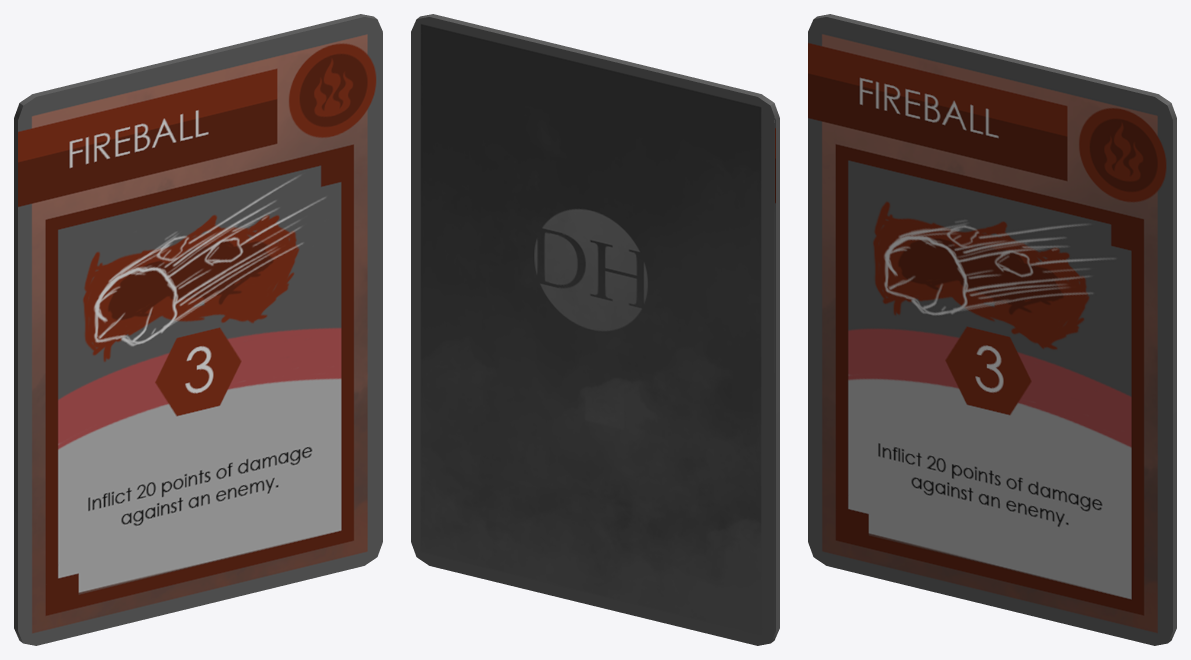
File: Card_Model.fbx
3 renders of one model, left to right at view 1: azimuth 30°, elevation 25°; view 2: azimuth 150°, elevation 25°; view 3: azimuth 330°, elevation 25°, orthographic.
Visible parts, largest first — view 1: pCube17; view 2: pCube17; view 3: pCube17.
Part boxes in pixels (bbox=[...]): pCube17: bbox=[14, 14, 382, 645]; pCube17: bbox=[411, 14, 779, 645]; pCube17: bbox=[808, 14, 1176, 645].
Size of the model in its own units: 3.79 by 5.45 by 0.0697.
Materials: 1 (1 with a texture image).
